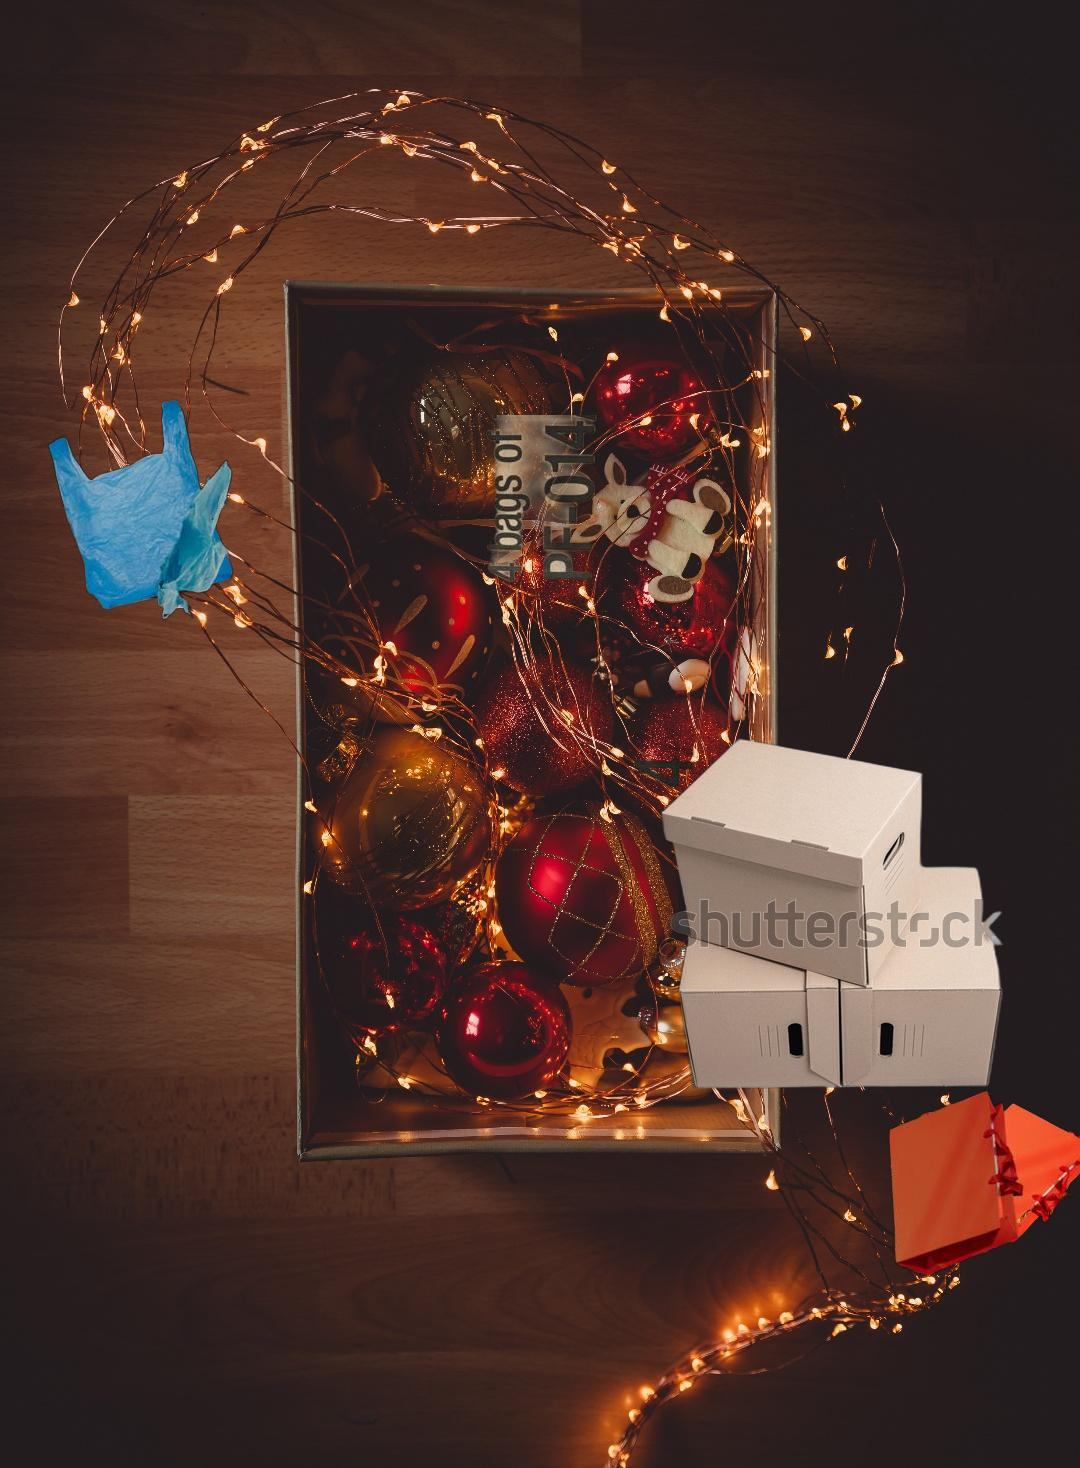paper-bag: (886, 1088, 1080, 1278)
plastic-bag: (46, 397, 236, 623)
trashbox-cardboard: (725, 1035, 1080, 1468), (347, 415, 697, 799), (656, 736, 1009, 1102)
